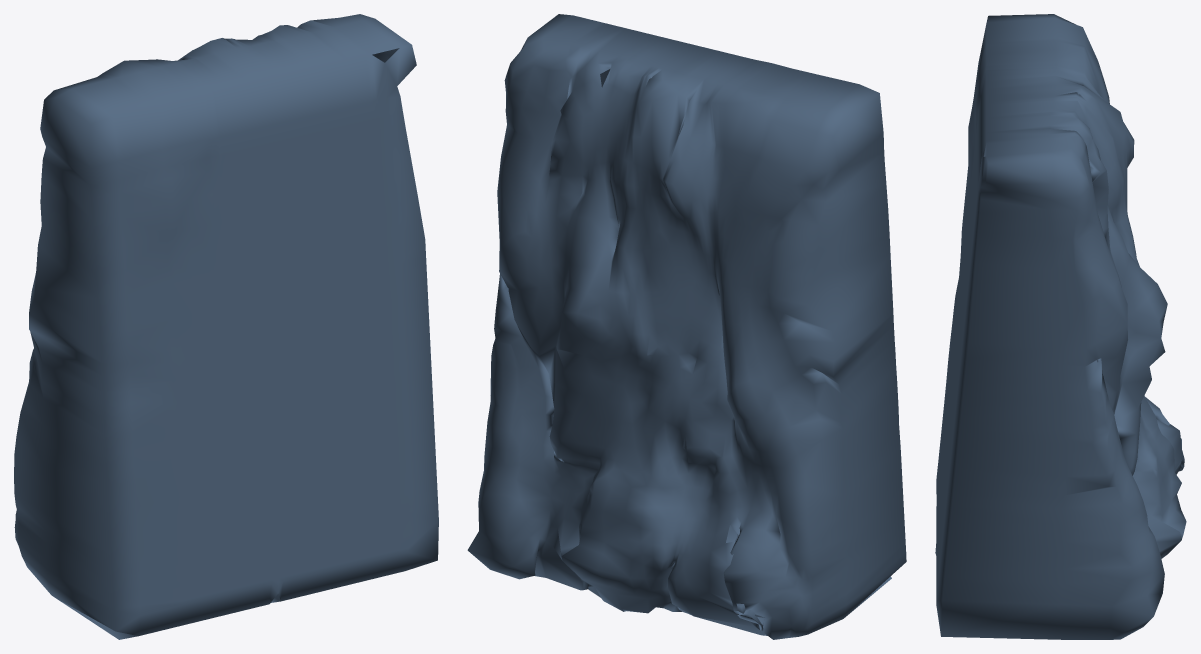
The model's file is Wall.Basic.005.dae.
3 views of the same model, side by side, from view 1: azimuth 30°, elevation 25°; view 2: azimuth 150°, elevation 25°; view 3: azimuth 270°, elevation 25° (orthographic). The views are drawn at different scales.
Parts seen in each view (by area): view 1: Plane.005; view 2: Plane.005; view 3: Plane.005.
Part boxes in pixels (bbox=[...]): Plane.005: bbox=[14, 14, 438, 639]; Plane.005: bbox=[467, 14, 906, 639]; Plane.005: bbox=[935, 14, 1186, 639].
Bounding box in the file's own units: 12.87 × 8.73 × 18.66.
